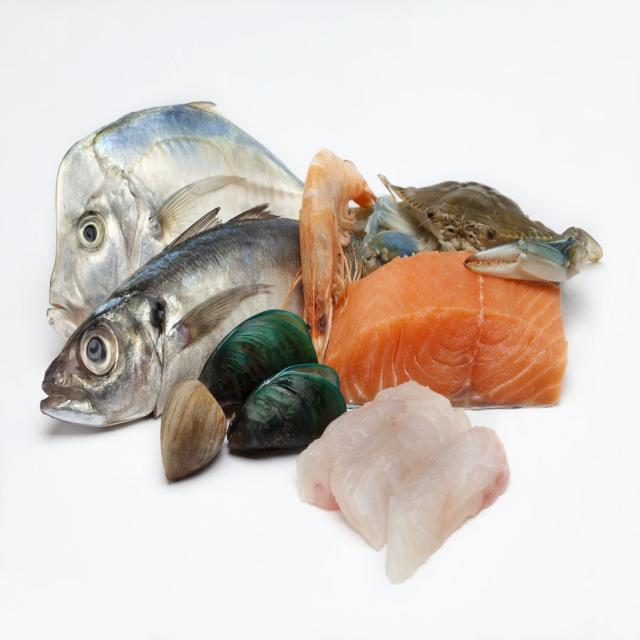fish: (46, 101, 302, 339), (40, 217, 302, 425)
